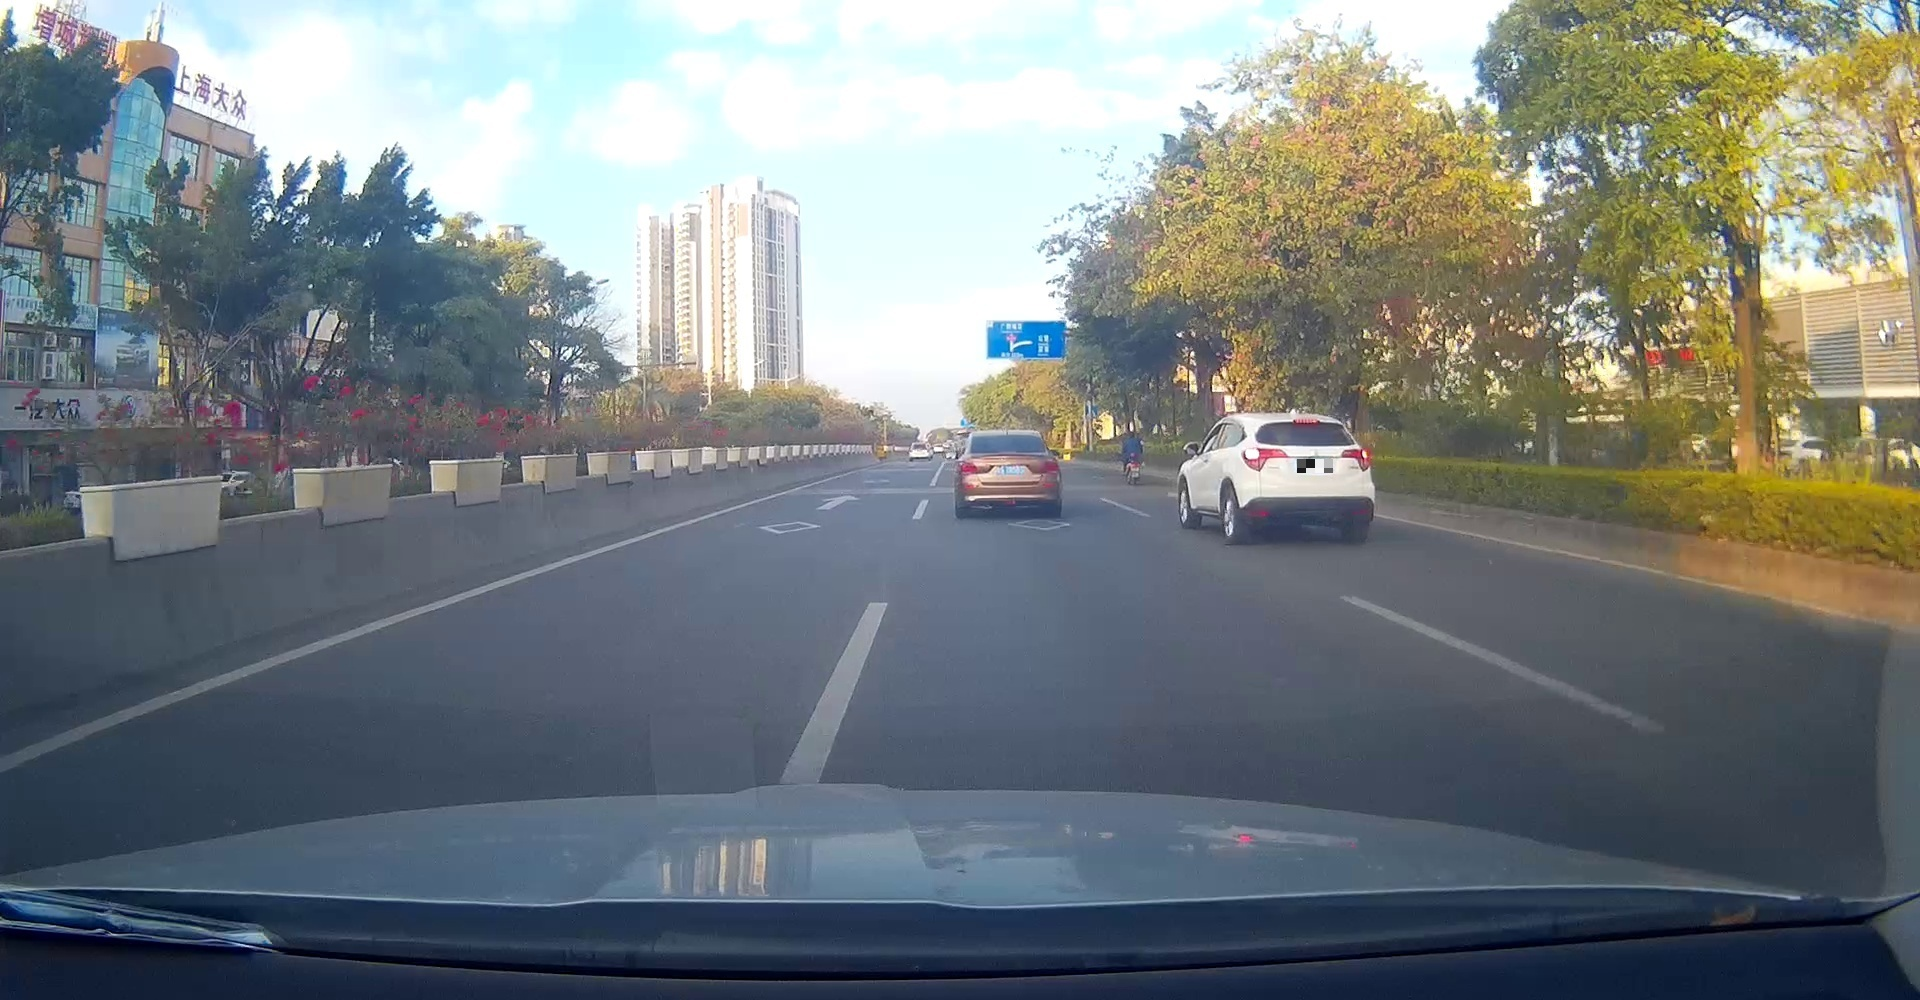L_light: (1241, 447, 1288, 472), (956, 461, 978, 473)
R_light: (1341, 447, 1373, 472), (1039, 461, 1060, 472)
T_light: (1294, 419, 1321, 424), (1001, 435, 1013, 440)
day-brake: (1238, 412, 1377, 544)
day-no: (955, 430, 1062, 516)
plate_1: (1297, 459, 1333, 473)
